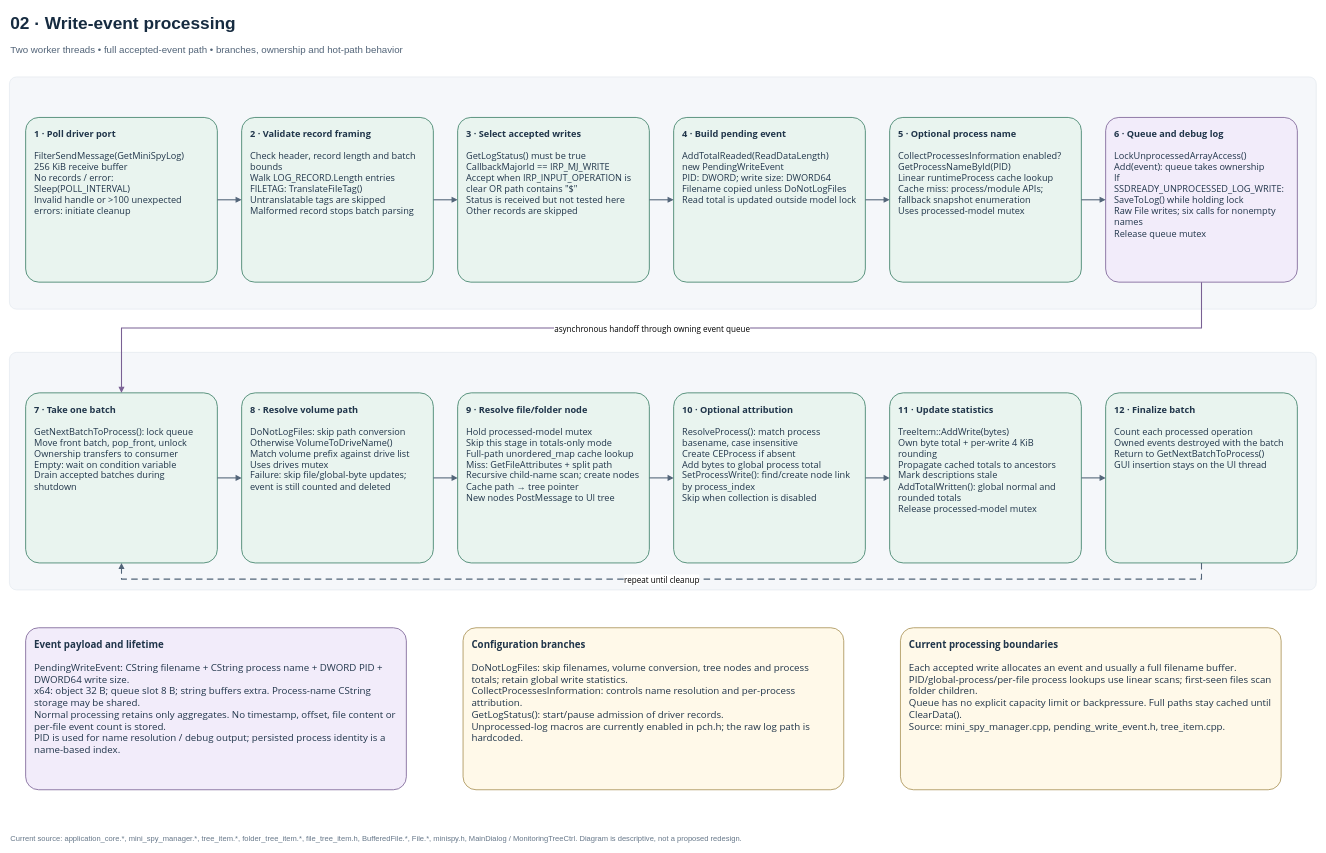
Image size: 1326x853. Some labels were removed from this diagram. Each missing label, with the box of its shape:
Consumer thread — MiniSpyManager::ProcessLogRecords: (9, 352, 1316, 590)
Producer thread — MiniSpyManager::RetrieveLogRecords: (9, 76, 1316, 309)
